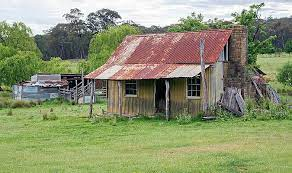Tin-shade House: (85, 26, 247, 120)
